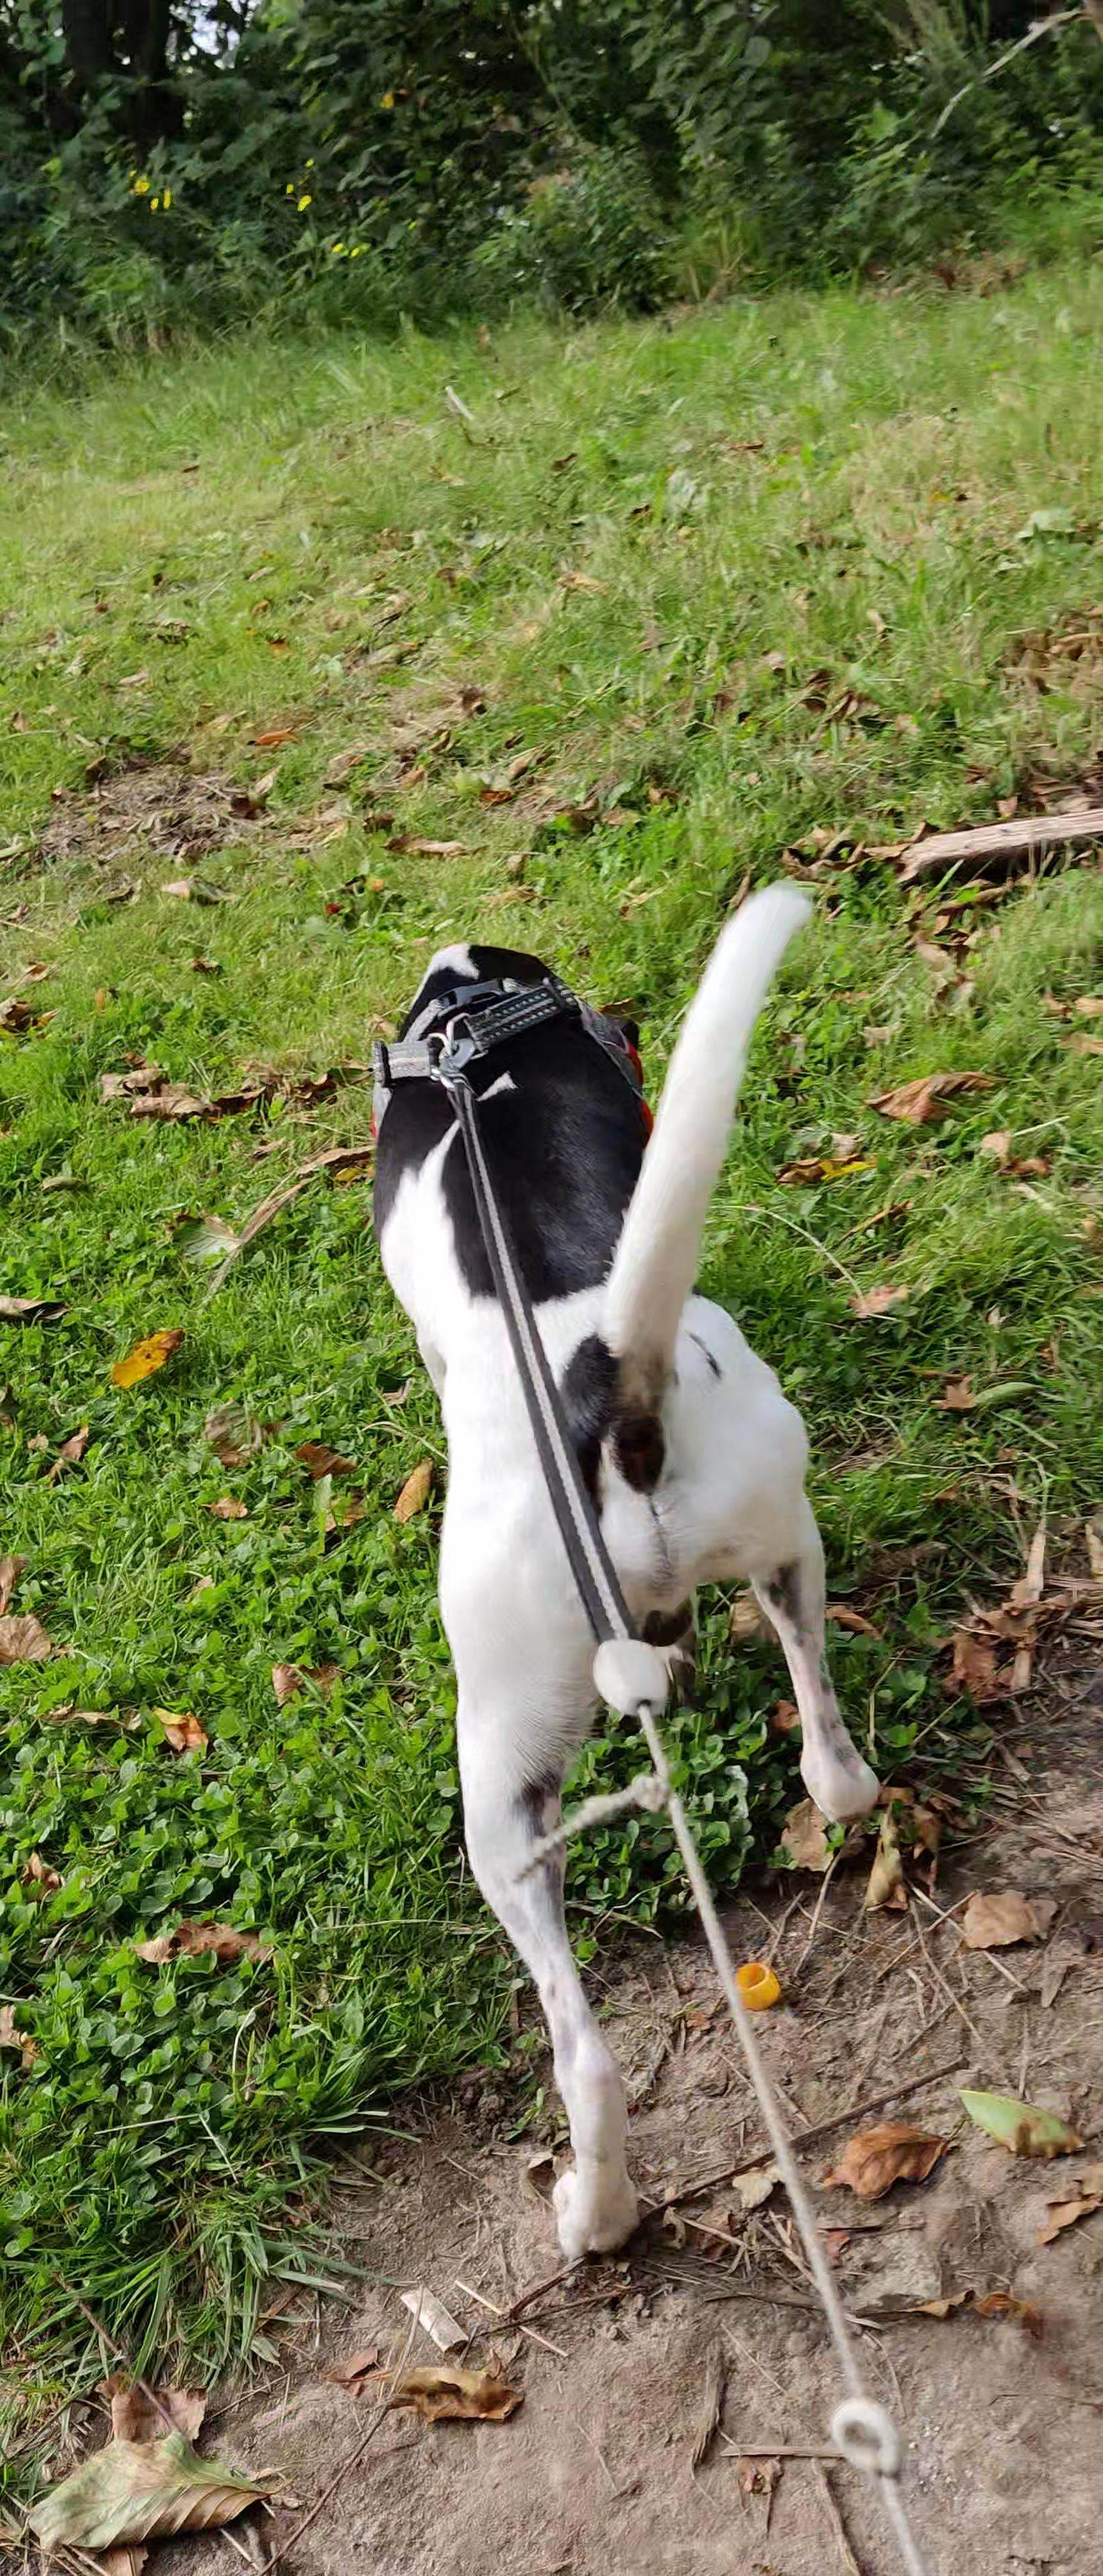Dog: (358, 869, 894, 2272)
